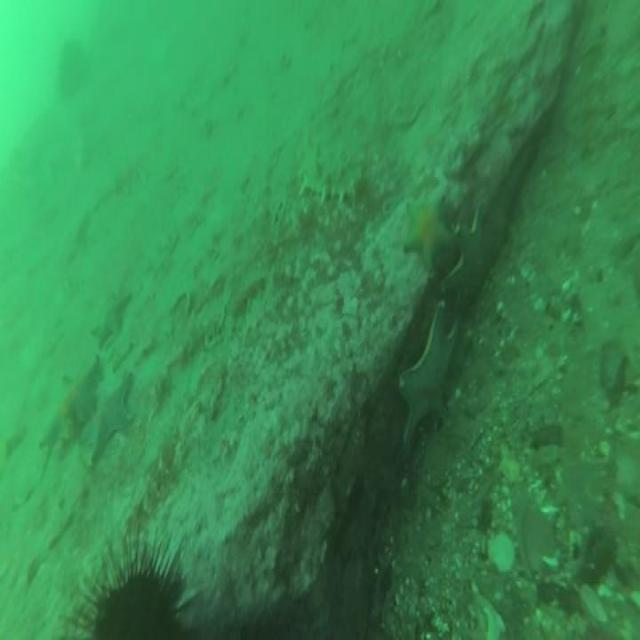echinus: (65, 532, 187, 640), (54, 32, 91, 108)
holothurian: (297, 128, 363, 205)
scallop: (486, 528, 516, 577)
starfish: (394, 302, 459, 469), (37, 351, 103, 458), (446, 196, 494, 314), (87, 375, 137, 474), (401, 196, 449, 278), (90, 289, 132, 348)
